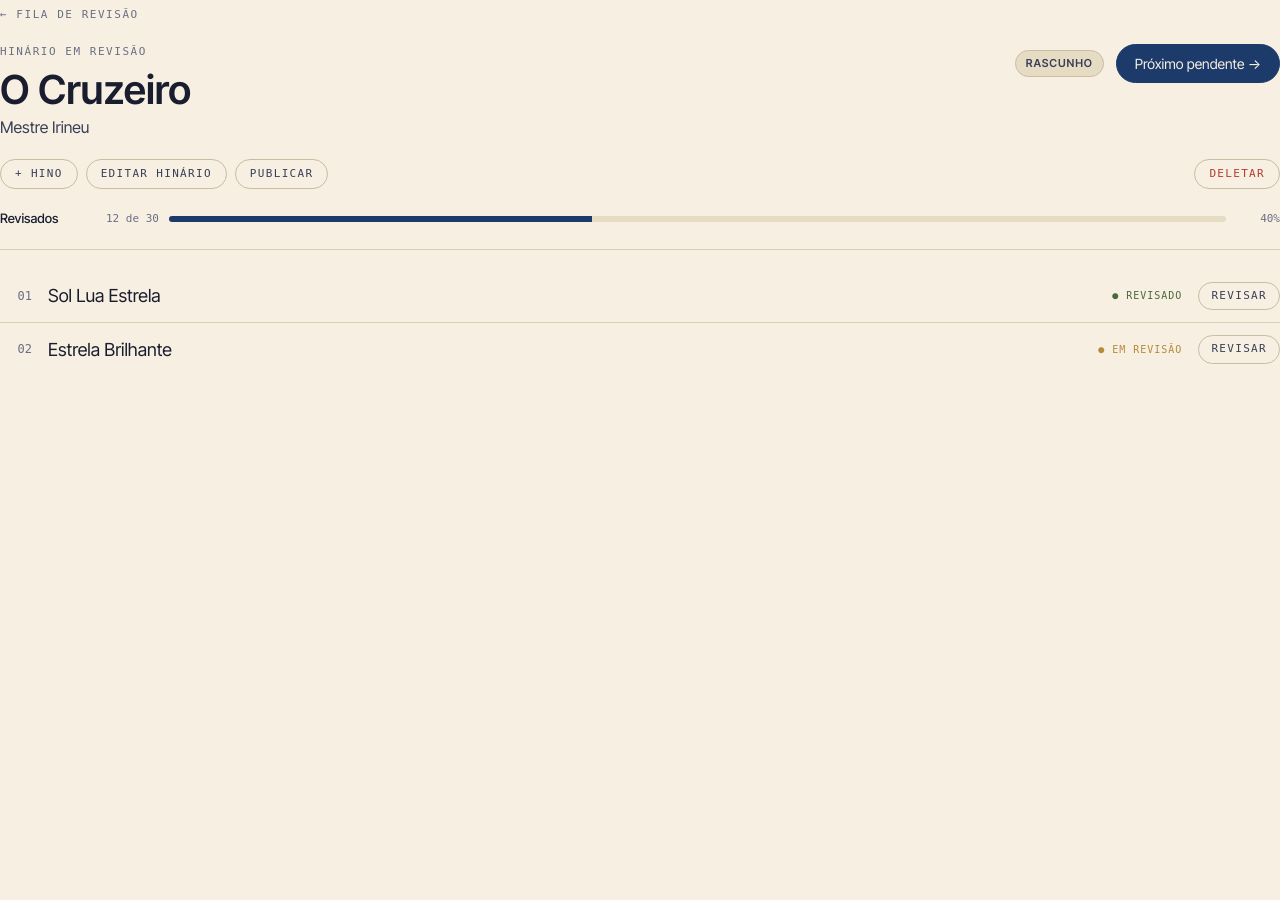
portas de entrada do detalhe editorial (1.2) › cancelar a deleção fecha o modal e não navega
The width and height of the screenshot is (1280, 900).
Click the button with test id "delete-hymnbook".
click(1237, 174)  # box x1=1194 y1=158 x2=1279 y2=189
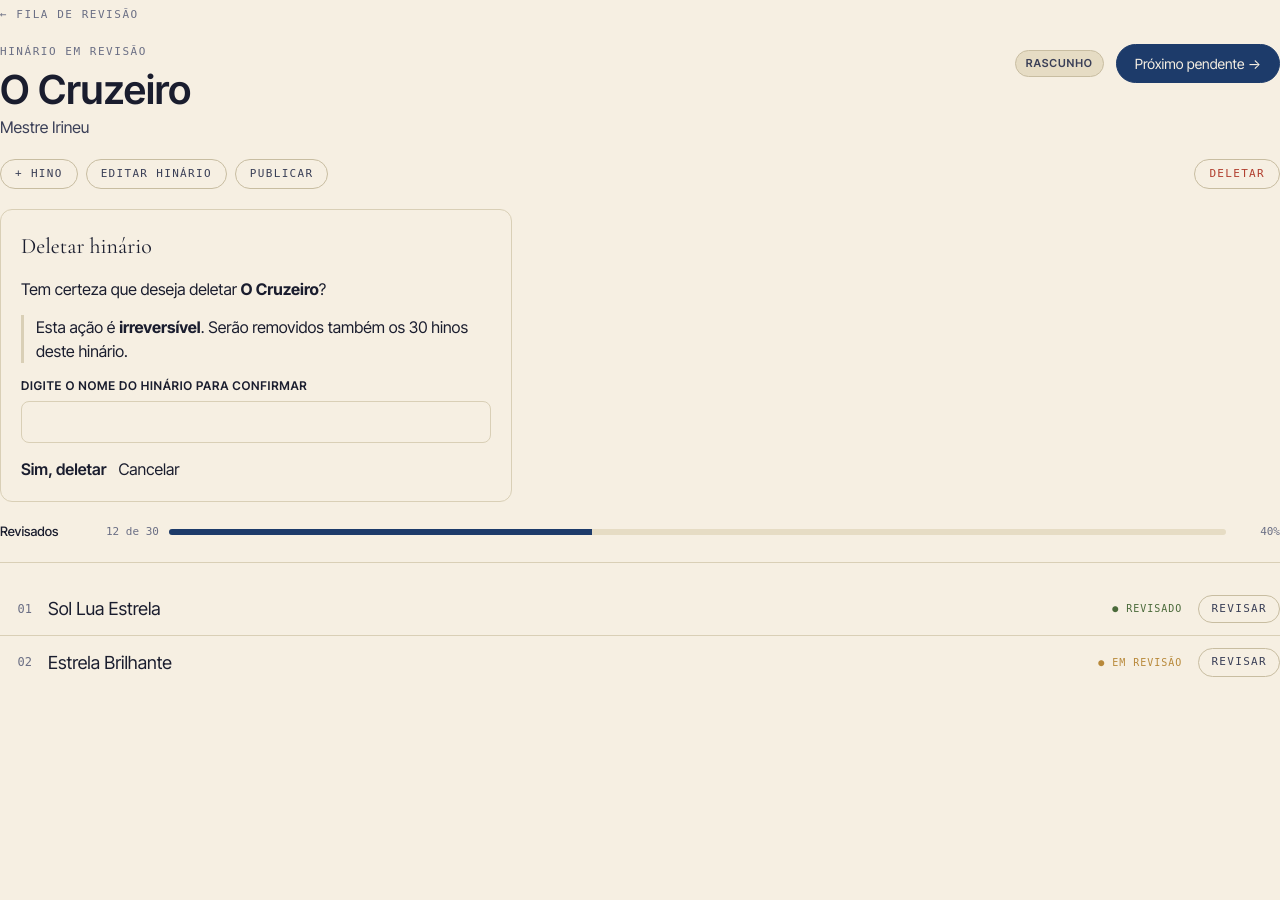
Click the button with test id "cancel-delete".
click(149, 469)  # box x1=118 y1=457 x2=180 y2=481
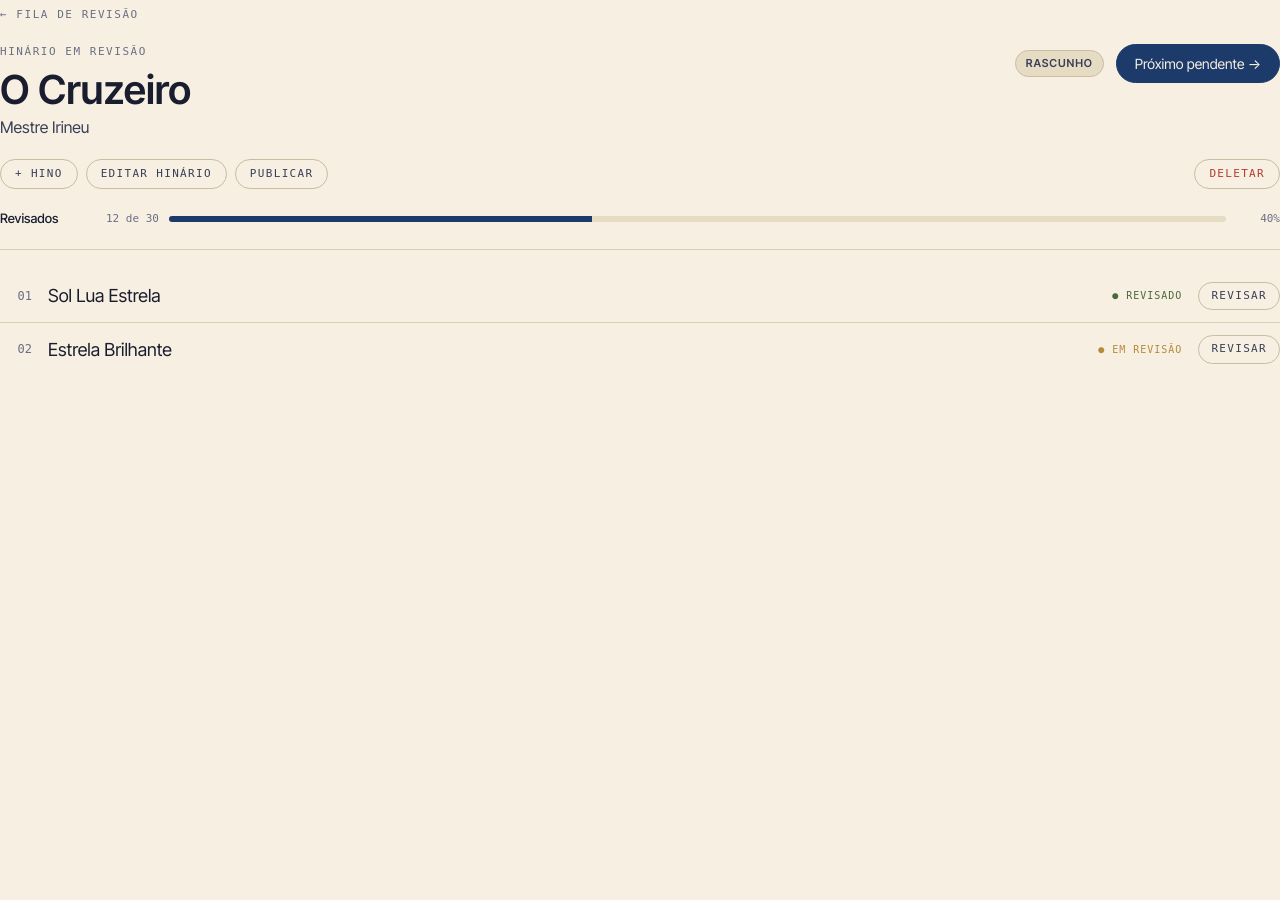
Expected: the dialog with test id "delete-hymnbook-modal" is gone
